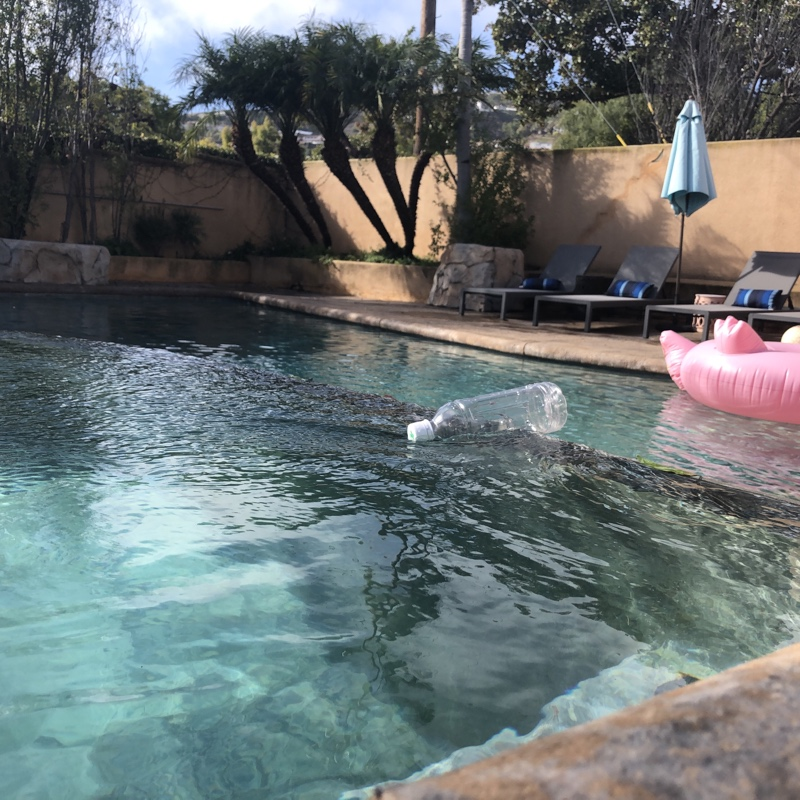Plastic Bottle: (403, 377, 570, 444)
